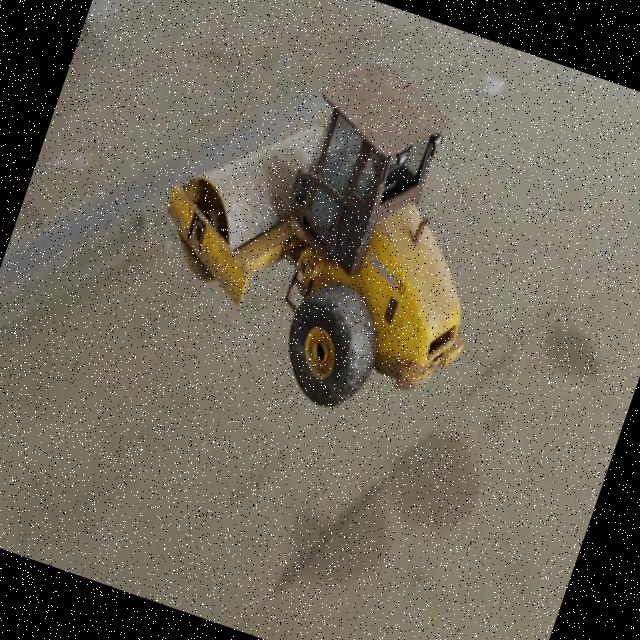Roller: (119, 10, 542, 443)
